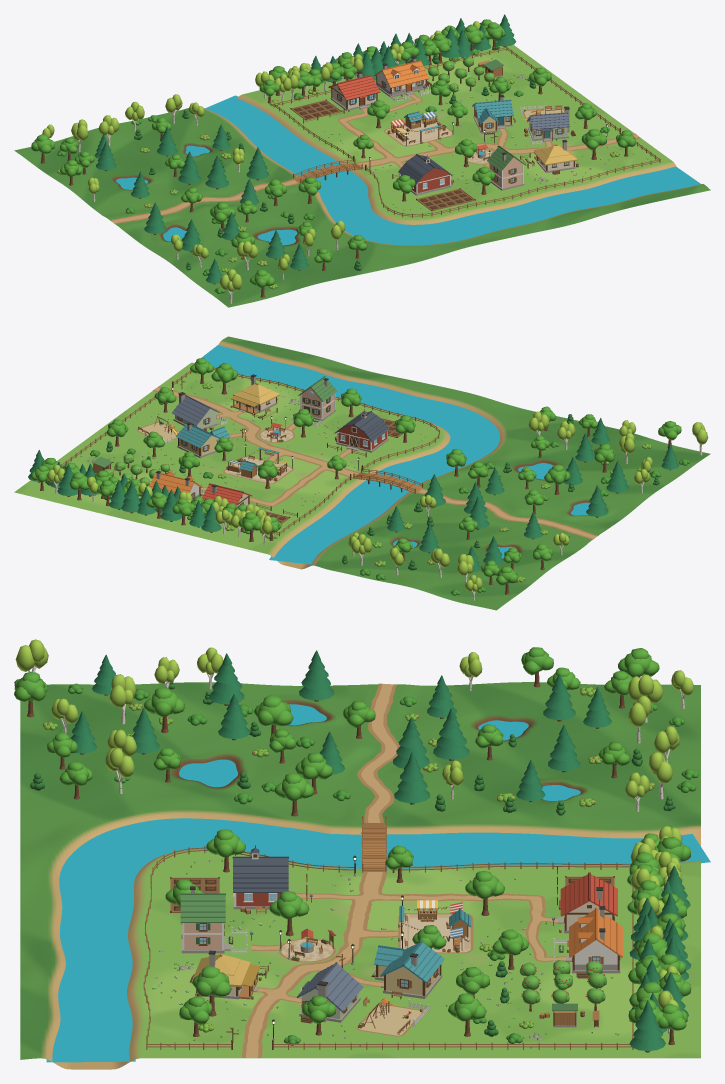
Rendered from fix.glb.
The picture shows the model from 3 angles, top to bottom: view 1: azimuth 30°, elevation 25°; view 2: azimuth 150°, elevation 25°; view 3: azimuth 270°, elevation 25°; orthographic projection. The views are drawn at different scales.
Parts seen in each view (by area): view 1: Terrain, River_Water, Additions_Paths, Village_Fences, Resident_House_6, Rival_Property_House, Player_Property_House, Resident_House_4, Resident_House_2, Resident_House_5, Resident_House_3, Market_Ground.001 (+3 smaller); view 2: Terrain, River_Water, Additions_Paths, Rival_Property_House, Village_Fences, Resident_House_2, Resident_House_4, Resident_House_5, Resident_House_3, River_Bridge, Resident_House_6, Player_Property_House (+1 smaller); view 3: Terrain, River_Water, Additions_Paths, Village_Fences, Resident_House_2, Resident_House_6, Rival_Property_House, Resident_House_4, Player_Property_House, Resident_House_5, Resident_House_3, Market_Ground.001 (+39 smaller).
Boxes of the visible parts, bbox=[...] form: Terrain: bbox=[14, 39, 710, 307]; River_Water: bbox=[205, 95, 700, 245]; Additions_Paths: bbox=[110, 94, 640, 224]; Village_Fences: bbox=[273, 46, 660, 217]; Resident_House_6: bbox=[374, 56, 429, 97]; Rival_Property_House: bbox=[398, 154, 452, 195]; Player_Property_House: bbox=[328, 71, 380, 110]; Resident_House_4: bbox=[487, 145, 525, 190]; Resident_House_2: bbox=[472, 94, 513, 133]; Resident_House_5: bbox=[527, 106, 569, 141]; Resident_House_3: bbox=[534, 139, 577, 172]; Market_Ground.001: bbox=[384, 120, 454, 146]; Terrain: bbox=[14, 336, 710, 610]; River_Water: bbox=[201, 345, 500, 564]; Additions_Paths: bbox=[152, 386, 598, 539]; Rival_Property_House: bbox=[335, 409, 389, 452]; Village_Fences: bbox=[61, 367, 439, 536]; Resident_House_2: bbox=[175, 422, 230, 458]; Resident_House_4: bbox=[298, 376, 337, 420]; Resident_House_5: bbox=[172, 392, 219, 428]; Resident_House_3: bbox=[230, 374, 280, 414]; River_Bridge: bbox=[353, 468, 423, 493]; Resident_House_6: bbox=[149, 470, 202, 499]; Player_Property_House: bbox=[202, 483, 252, 507]; Terrain: bbox=[20, 682, 700, 1069]; River_Water: bbox=[46, 818, 710, 1062]; Additions_Paths: bbox=[241, 683, 565, 1058]; Village_Fences: bbox=[143, 846, 633, 1049]; Resident_House_2: bbox=[374, 941, 444, 998]; Resident_House_6: bbox=[566, 906, 623, 973]; Rival_Property_House: bbox=[232, 845, 293, 909]; Resident_House_4: bbox=[180, 886, 230, 953]; Player_Property_House: bbox=[557, 872, 617, 933]; Resident_House_5: bbox=[296, 962, 363, 1022]; Resident_House_3: bbox=[191, 950, 260, 999]; Market_Ground.001: bbox=[398, 913, 473, 953].
Bounding box in the file's own units: 132 × 10.79 × 102.
